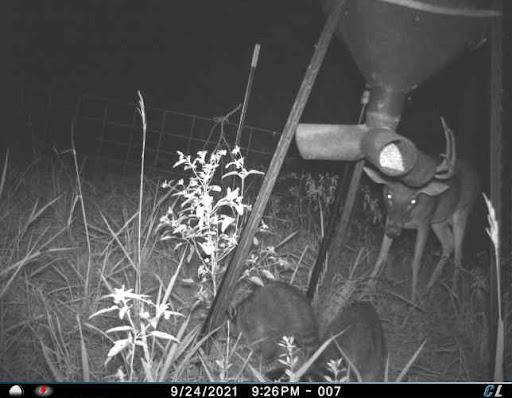Deer: (355, 115, 479, 333)
